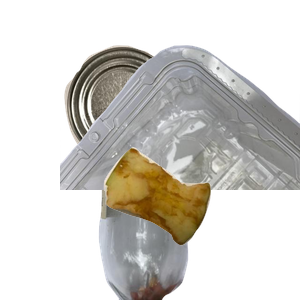glass: (96, 120, 283, 300)
metal: (62, 43, 232, 198)
plastic: (60, 43, 300, 223)
trash: (101, 145, 300, 300)
